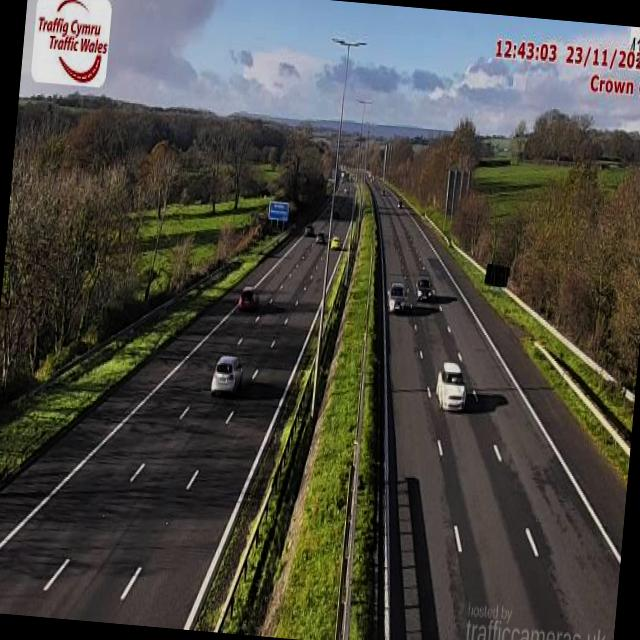foliage: (0, 156, 139, 391), (515, 167, 640, 380), (144, 141, 178, 299), (453, 191, 517, 265), (281, 129, 325, 209)
